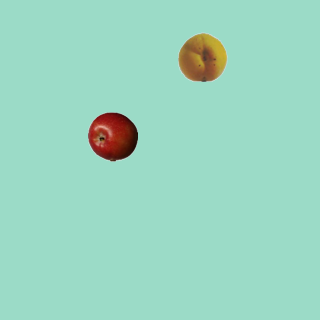Apple Braeburn: (87, 111, 137, 161)
Peach 2: (177, 31, 227, 81)
